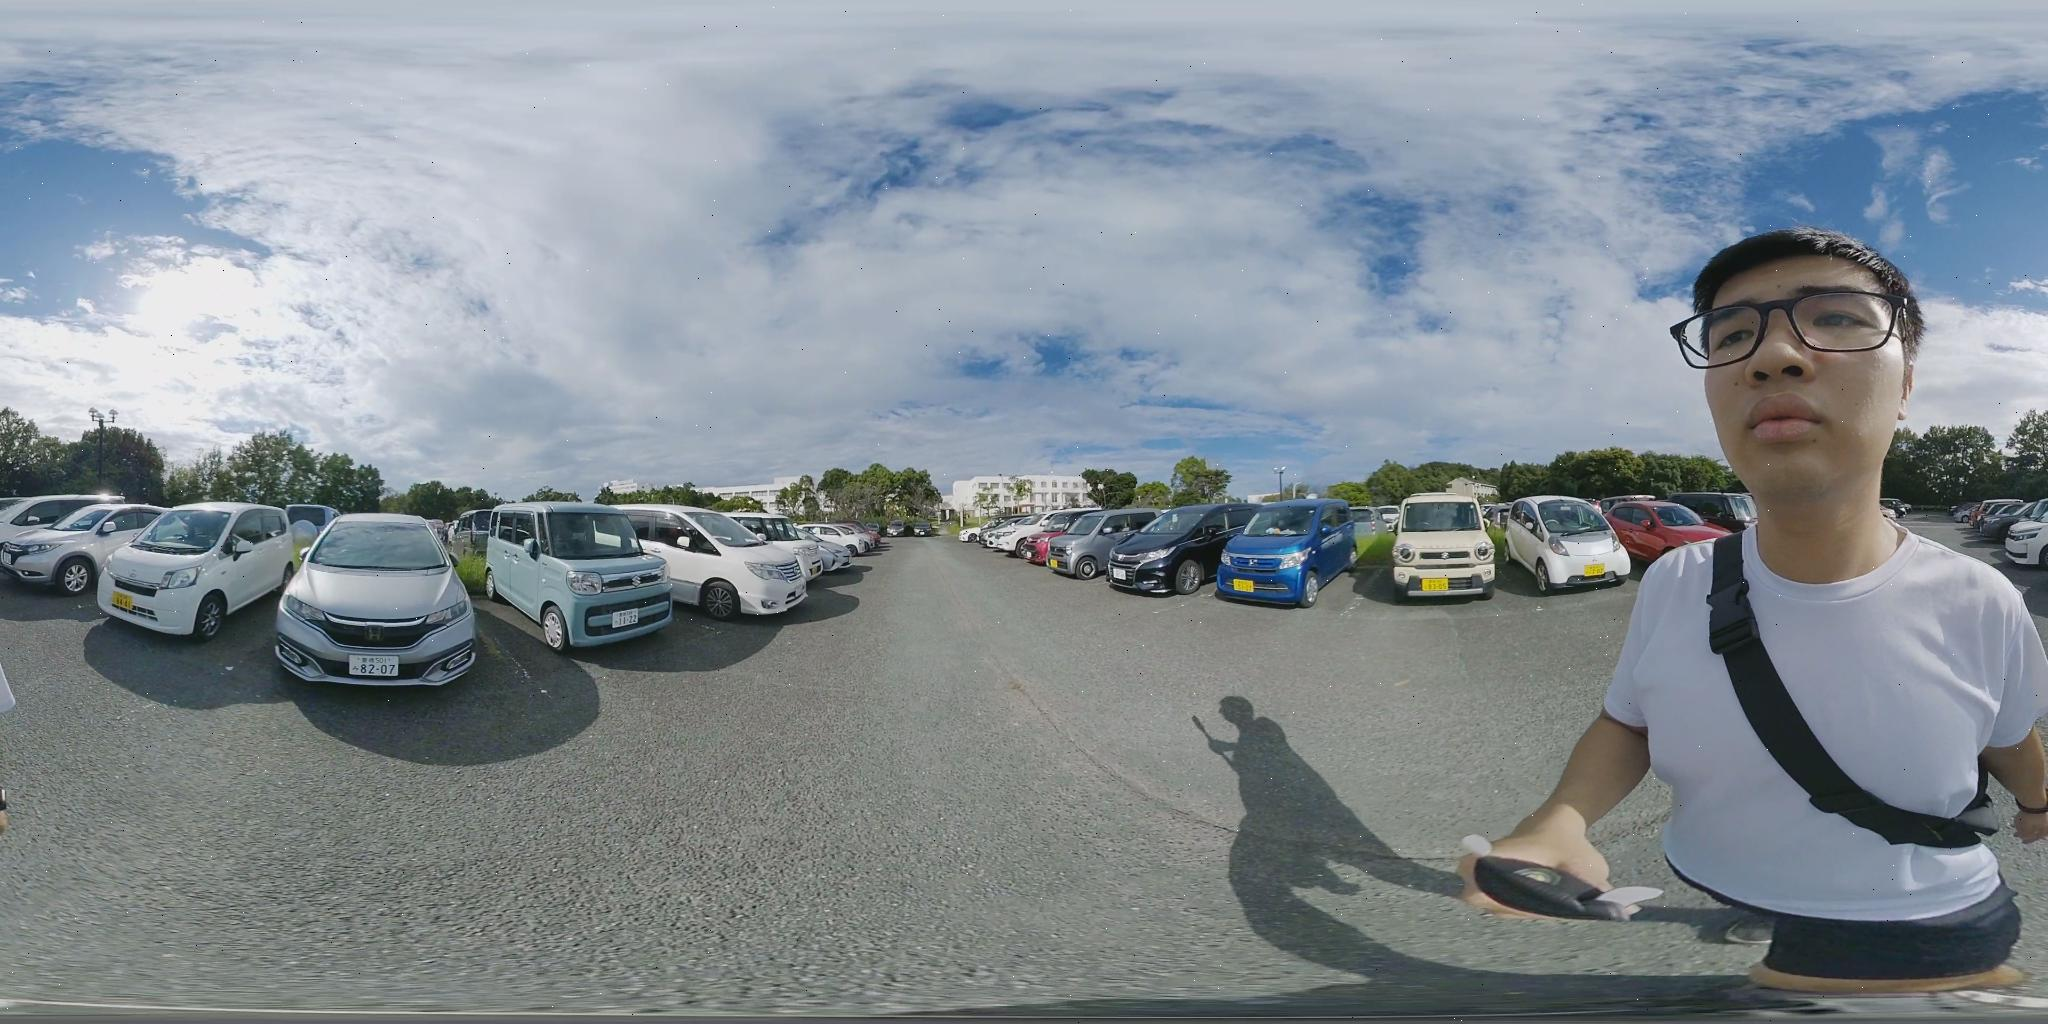car: (270, 509, 492, 684), (101, 505, 321, 639), (488, 507, 667, 640), (613, 504, 807, 624), (1105, 502, 1301, 596), (1206, 502, 1354, 606), (1485, 495, 1639, 594), (0, 505, 159, 590), (1394, 498, 1496, 605), (1603, 495, 1754, 558), (1045, 509, 1169, 579), (0, 494, 121, 534), (1660, 491, 1750, 532), (794, 524, 878, 564)
